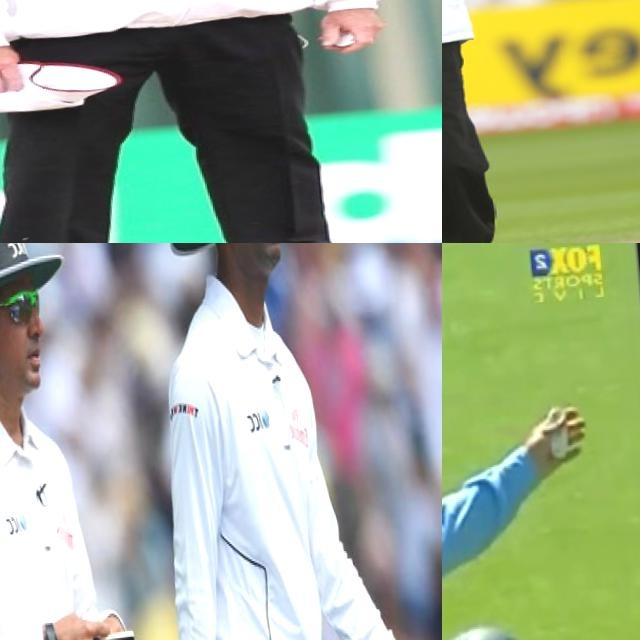No_Action: (120, 243, 442, 640), (0, 0, 415, 243), (0, 243, 150, 640)
Six: (442, 0, 563, 243)
Wide: (442, 334, 630, 640)
